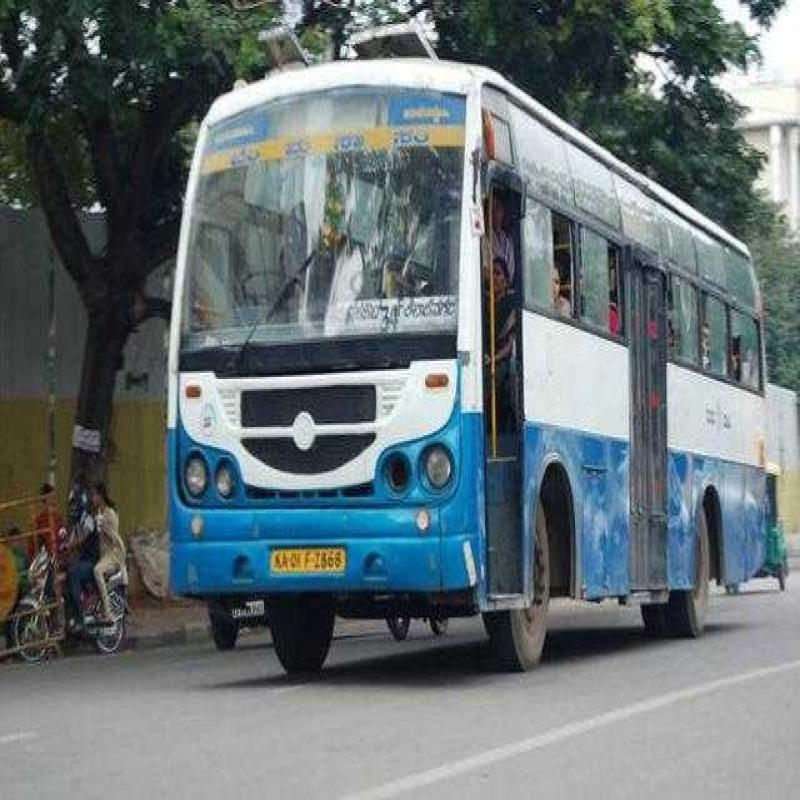bus: (171, 39, 792, 687)
